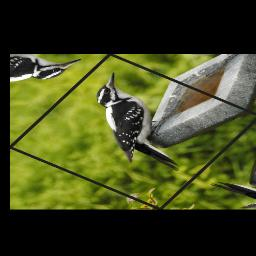Woodpecker: (48, 70, 233, 179)
